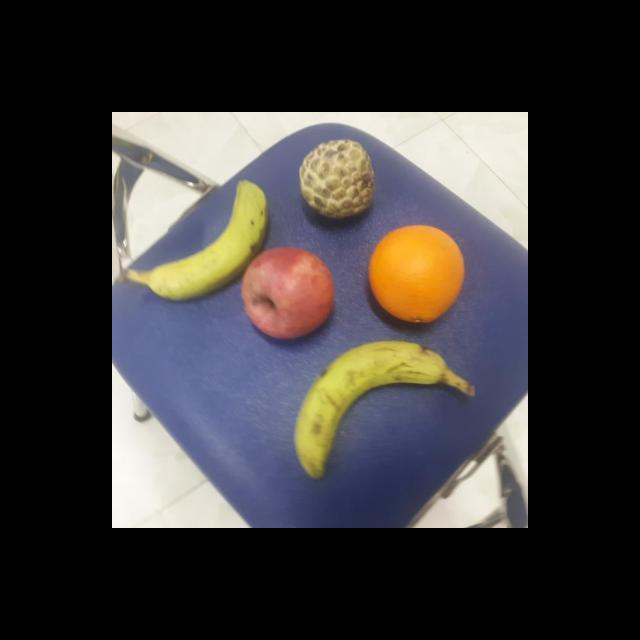Sakya fruit: (298, 134, 382, 222)
apple: (236, 244, 337, 340)
banana: (292, 334, 449, 482), (141, 174, 272, 302)
orange: (363, 223, 468, 325)
